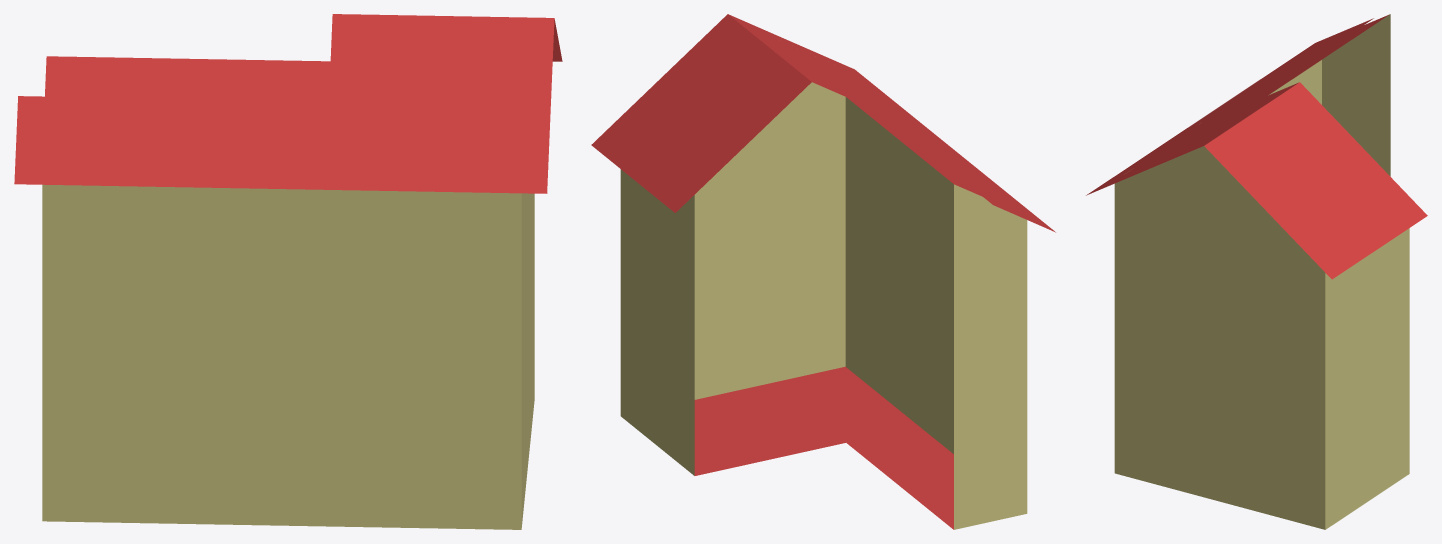
The picture shows the model from 3 angles, left to right: view 1: azimuth 30°, elevation 25°; view 2: azimuth 150°, elevation 25°; view 3: azimuth 270°, elevation 25°; orthographic projection. The views are drawn at different scales.
Size of the model in its own units: 12.06 by 7.96 by 9.28.
